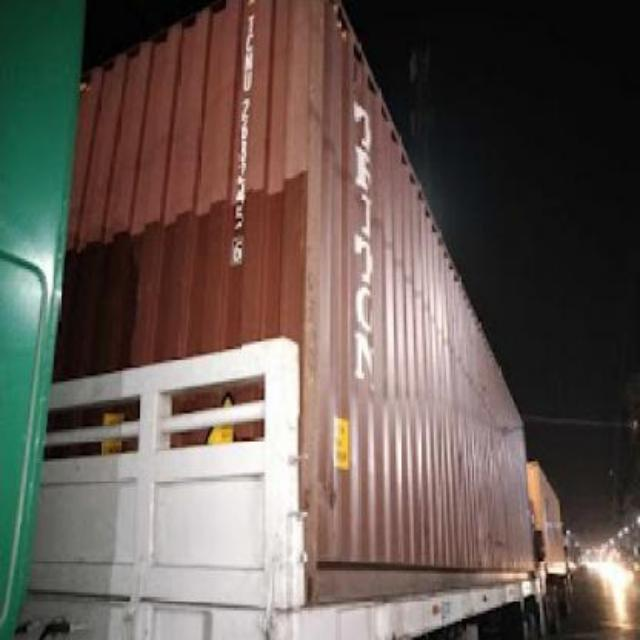2: (237, 160, 250, 184), (240, 99, 252, 117)
4: (230, 181, 246, 205)
5: (230, 202, 246, 230)
6: (232, 234, 244, 264), (237, 115, 250, 142)
8: (236, 139, 248, 163)
C: (242, 33, 255, 51)
N: (242, 51, 254, 69)
T: (244, 12, 256, 32)
U: (242, 70, 252, 90)
